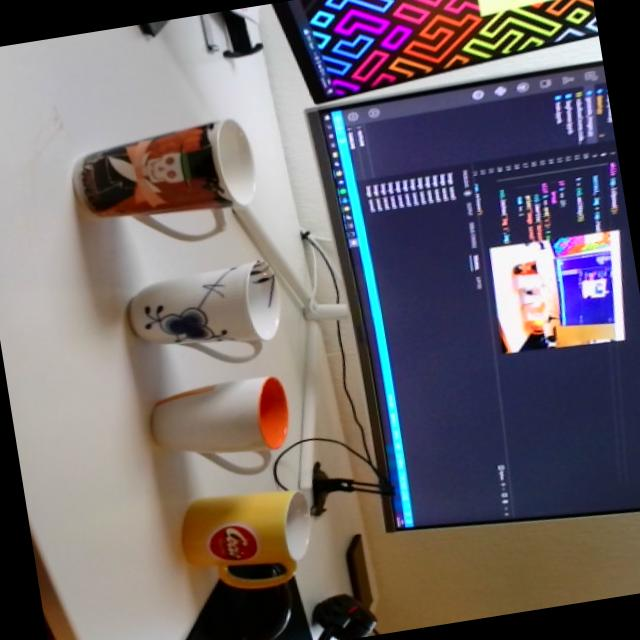Cocio Cup: (172, 482, 322, 602)
Halloween cup: (69, 114, 262, 245)
Hand painted cup: (118, 256, 290, 380)
White Cup: (140, 372, 298, 490)
